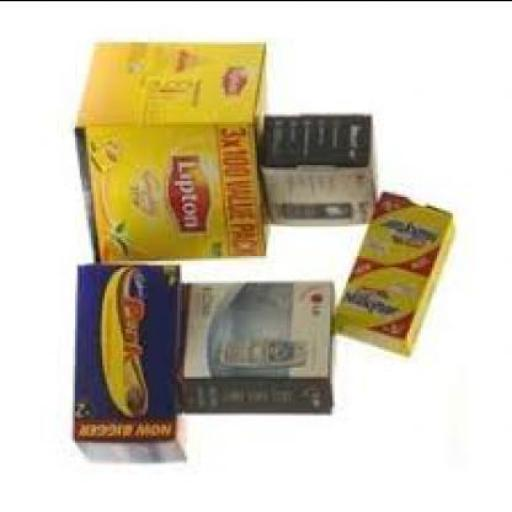cardboard: (72, 38, 270, 262), (74, 262, 186, 460), (175, 278, 339, 412), (339, 186, 457, 352), (260, 112, 378, 223)
